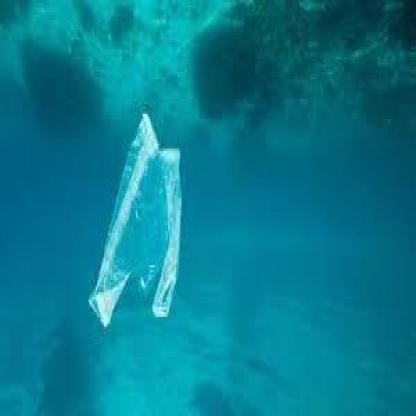pbag: (89, 111, 183, 332)
